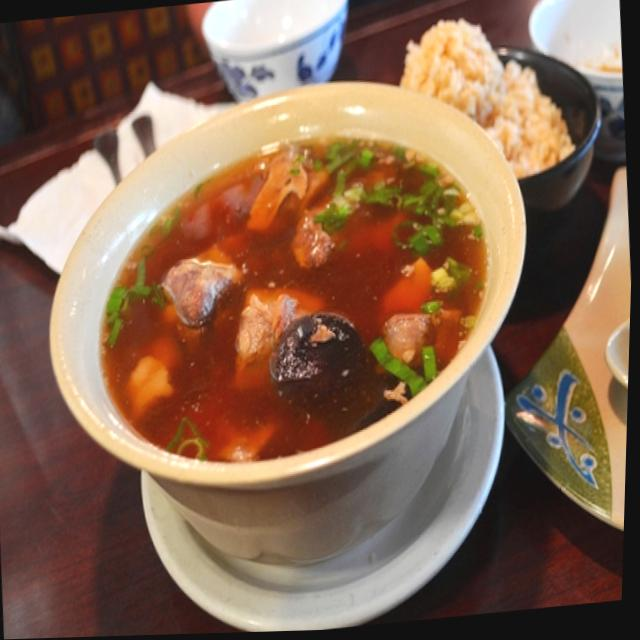汤锅炖物: (21, 65, 561, 639)
